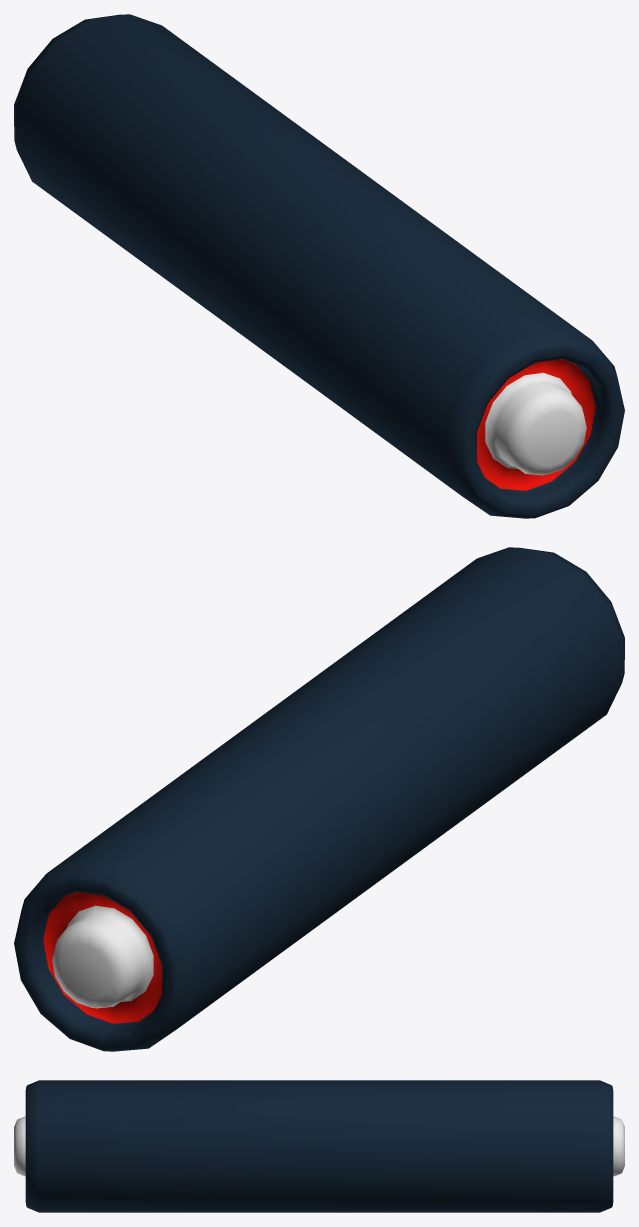
Rendered from beltthing.fbx.
The picture shows the model from 3 angles, top to bottom: view 1: azimuth 30°, elevation 25°; view 2: azimuth 150°, elevation 25°; view 3: azimuth 270°, elevation 25°; orthographic projection. The views are drawn at different scales.
Visible parts, largest first — view 1: Cylinder.001; view 2: Cylinder.001; view 3: Cylinder.001.
Boxes of the visible parts, box(x1,y1,x2,y2) form: Cylinder.001: box(14, 14, 624, 518); Cylinder.001: box(14, 547, 624, 1051); Cylinder.001: box(14, 1080, 624, 1212).
Size of the model in its own units: 17.48 by 17.56 by 81.03.
